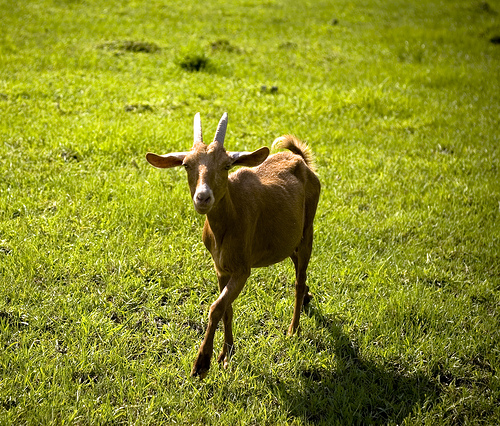goat: (146, 110, 322, 382)
